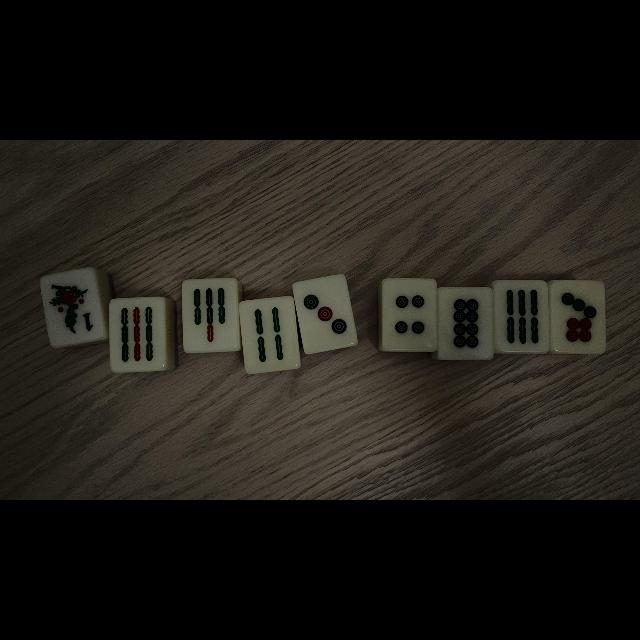b4: (244, 300, 296, 370)
b6: (496, 280, 546, 352)
b7: (184, 280, 238, 350)
b9: (111, 300, 162, 368)
d3: (298, 278, 352, 350)
d4: (384, 279, 434, 349)
d7: (550, 281, 604, 353)
d8: (439, 288, 491, 358)
f1-s: (45, 272, 101, 342)
